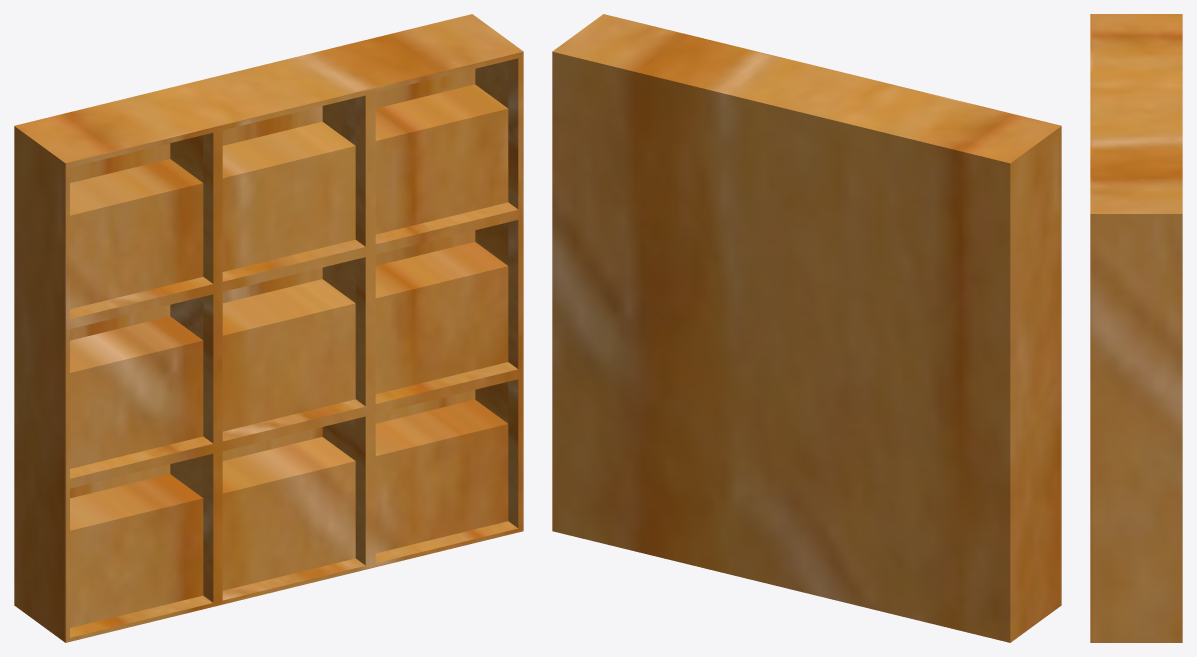
Rendered from BookShelf.obj.
3 renders of one model, left to right at view 1: azimuth 30°, elevation 25°; view 2: azimuth 150°, elevation 25°; view 3: azimuth 270°, elevation 25°, orthographic. The views are drawn at different scales.
Visible parts, largest first — view 1: BookShelf; view 2: BookShelf; view 3: BookShelf.
Part boxes in pixels (bbox=[...]): BookShelf: bbox=[14, 14, 523, 642]; BookShelf: bbox=[552, 14, 1061, 642]; BookShelf: bbox=[1090, 14, 1182, 642].
Bounding box in the file's own units: 178 × 178 × 34.66.
